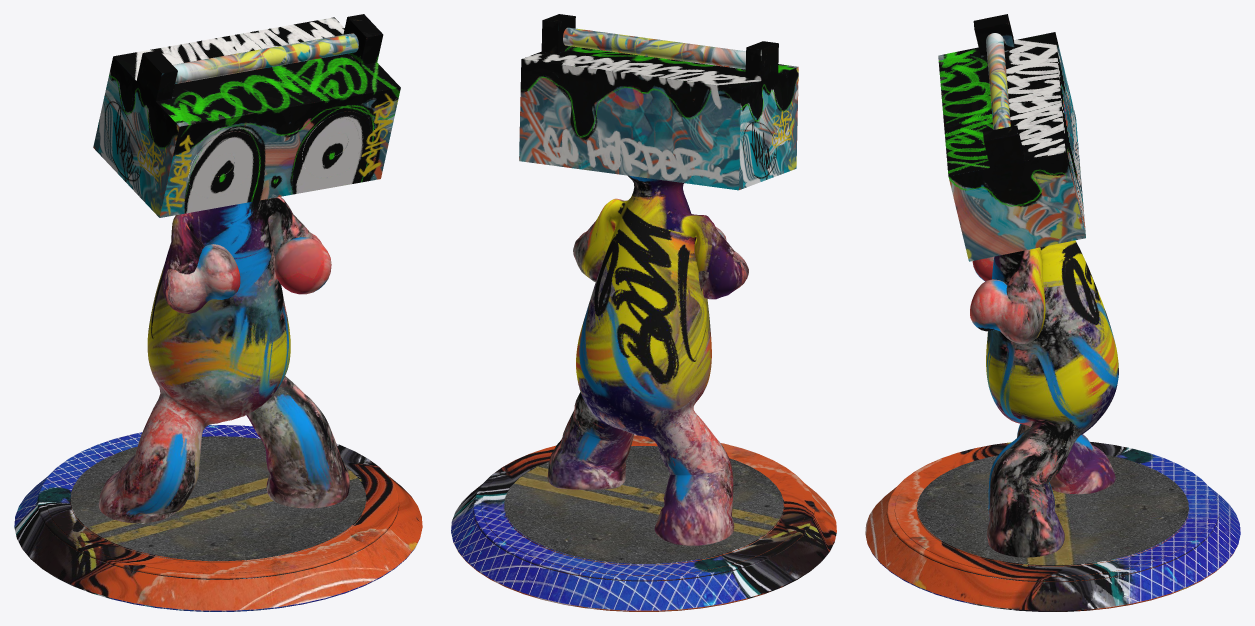
File: 185_sanitized.glb
3 views of the same model, side by side, from view 1: azimuth 30°, elevation 25°; view 2: azimuth 150°, elevation 25°; view 3: azimuth 270°, elevation 25° (orthographic). The views are drawn at different scales.
Parts seen in each view (by area): view 1: BBody; view 2: BBody; view 3: BBody.
Part boxes in pixels (box(x1,y1,x2,y2)): BBody: box(14, 14, 422, 611); BBody: box(451, 14, 836, 611); BBody: box(865, 14, 1240, 611).
Bounding box in the file's own units: 1.45 × 2.02 × 1.45.
Materials: 4 (4 with a texture image).
